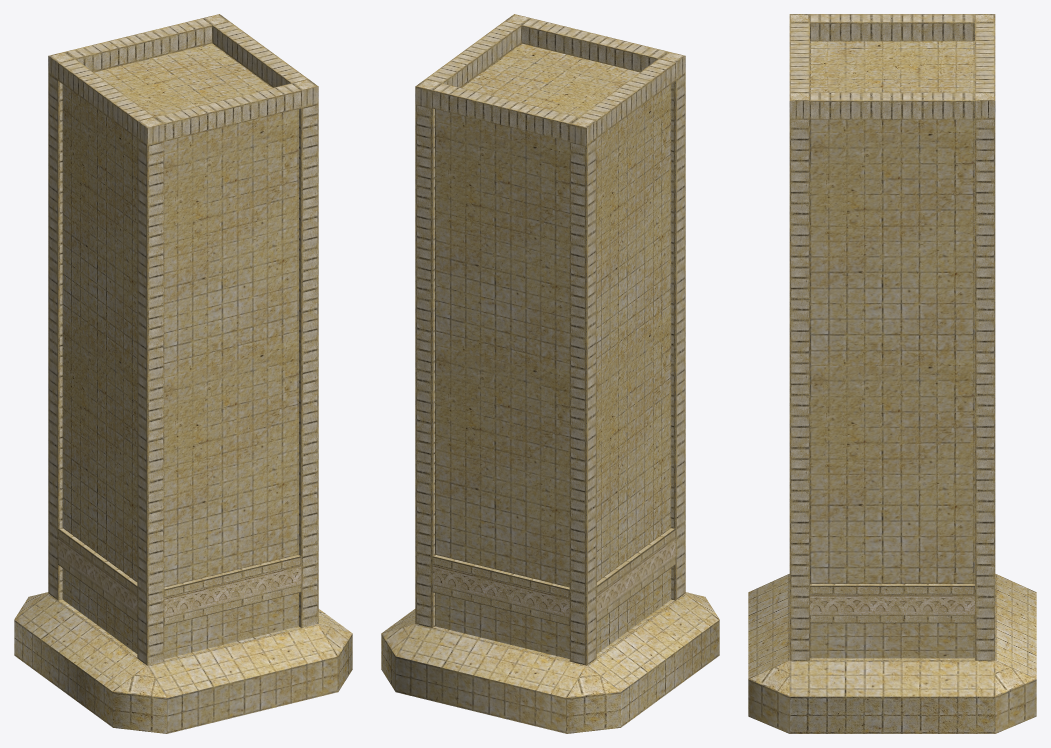
Rendered from desert_large_tower.dae.
3 views of the same model, side by side, from view 1: azimuth 30°, elevation 25°; view 2: azimuth 150°, elevation 25°; view 3: azimuth 270°, elevation 25° (orthographic). The views are drawn at different scales.
Parts seen in each view (by area): view 1: desert_large_tower; view 2: desert_large_tower; view 3: desert_large_tower.
Part boxes in pixels (x1=…): desert_large_tower: x1=14, y1=14, x2=352, y2=733; desert_large_tower: x1=381, y1=14, x2=719, y2=733; desert_large_tower: x1=748, y1=14, x2=1036, y2=733.
Bounding box in the file's own units: 5.51 × 5.51 × 12.99.
Materials: 3 (3 with a texture image).
